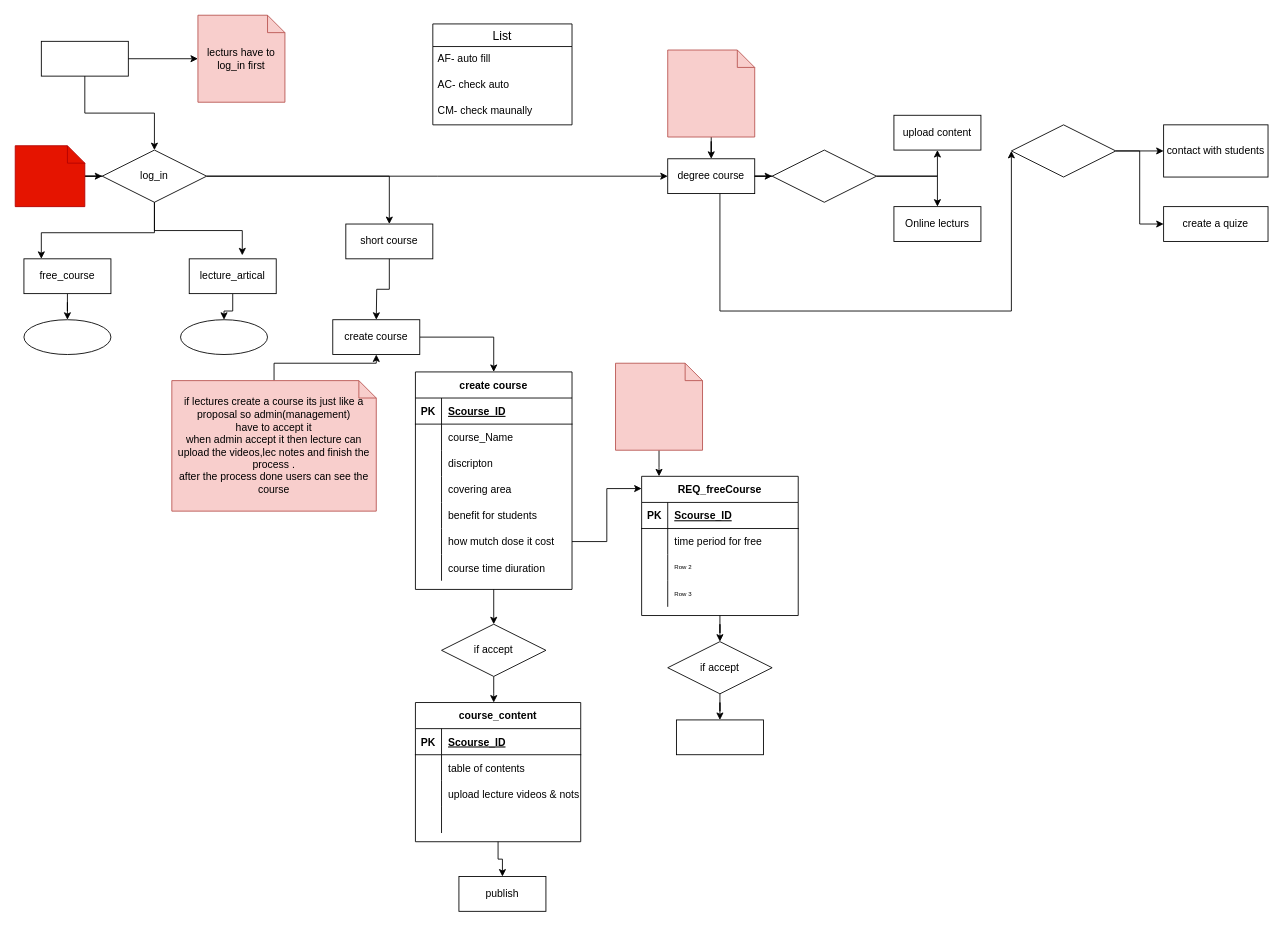
Image size: 1283x927. Some labels were removed from this diagram. The centre of each missing label's shape, as x and y in pixels:
"access" belongs at point 1063,150.
"add_freeCourse" belongs at point 719,737.
"deg courses are create by admin only" belongs at point 711,93.
"home" belongs at point 84,58.
"if lecture wants to their course to free they can reqest for it" belongs at point 659,406.
"if user not logout and leave after 20 min auto logout" belongs at point 49,176.
"sheduled" belongs at point 824,175.
"upload/update /delete" belongs at point 224,337.
"View" belongs at point 67,337.
